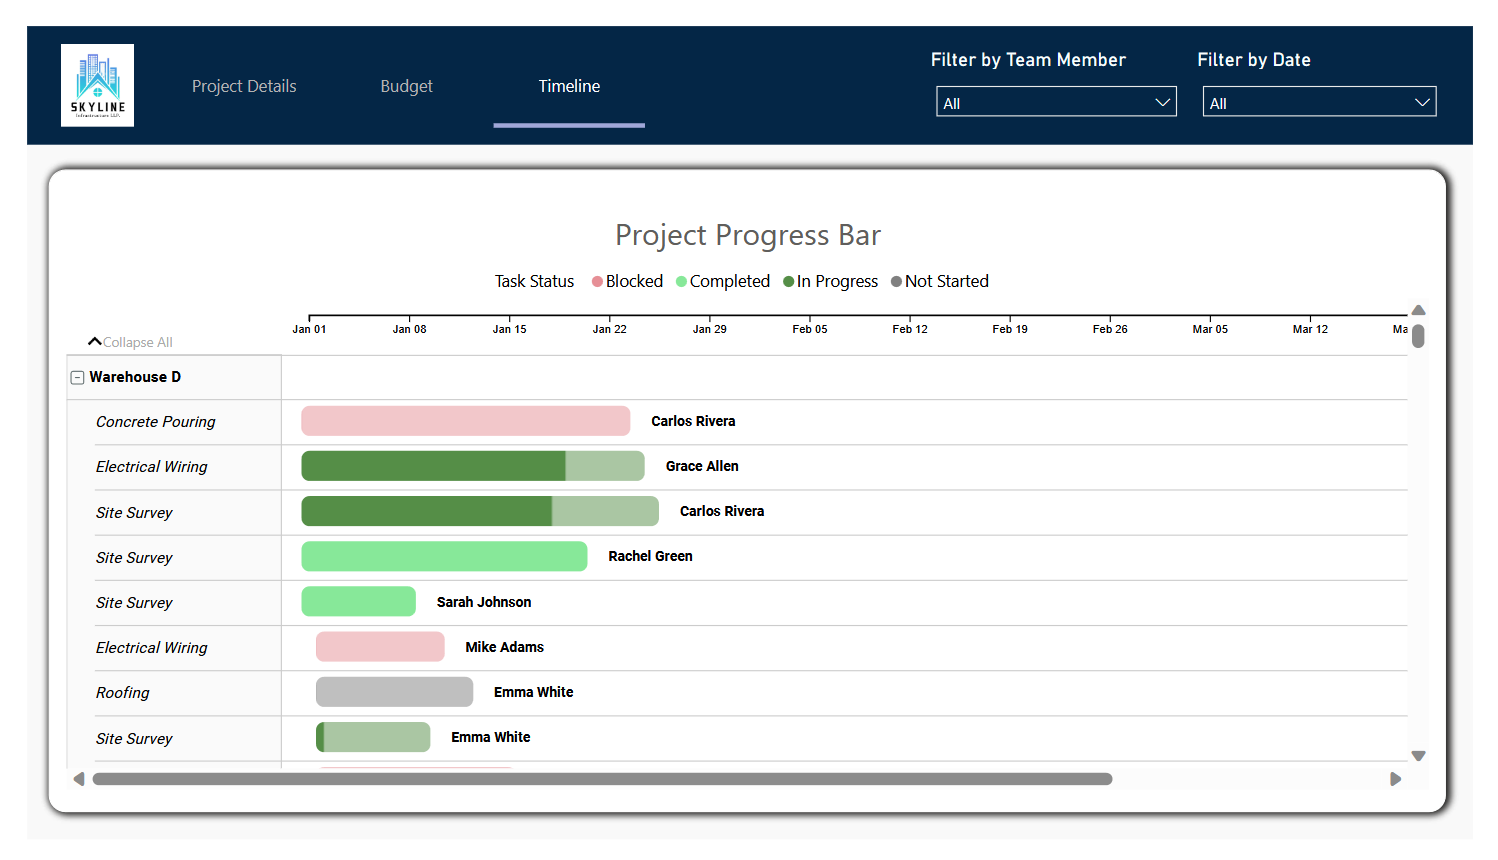

This screenshot's page, from the dashboard's own definition file:
{"tool":"powerbi","page":{"name":"Timeline","canvas":[1280,720],"ordinal":2},"visuals":[{"type":"textbox","box":[0,0,1280,105],"z":0},{"type":"slicer","title":"Filter by Team Member","fields":{"Values":["Dataset.Assigned To"]},"box":[795,18.7,232.5,71.2],"z":0,"group":"g1"},{"type":"image","box":[0,11.2,125,82.5],"z":1000,"group":"g1"},{"type":"textbox","box":[18.6,127.1,1237.1,568.6],"z":1000},{"type":"slicer","title":"Filter by Date","fields":{"Values":["Calendar.Year","Calendar.Month"]},"box":[1031.2,18.7,226.2,72.5],"z":2000,"group":"g1"},{"type":"Gantt1448688115699","title":"   ","fields":{"Task":["large_construction_project_mana.Task Name"],"Parent":["large_construction_project_mana.Project Name"],"StartDate":["large_construction_project_mana.Start Date"],"EndDate":["Min(large_construction_project_mana.Due Date)"],"Completion":["Sum(large_construction_project_mana.Progress %)"],"Resource":["large_construction_project_mana.Assigned To"],"Legend":["large_construction_project_mana.Task Status"],"ExtraInformation":["large_construction_project_mana.Priority","Dataset.Expected Days"]},"box":[30,127.5,1216.2,553.8],"z":2000},{"type":"group","id":"g1","title":"Navigation Group","box":[0,11.2,1257.5,82.5],"z":3000},{"type":"pageNavigator","box":[125,12.5,422.5,77.5],"z":4000}]}

Visuals, with their boxes in screenshot pixels (x1, y1, x2, y2):
textbox: Rect(0, 16, 1477, 137)
"Filter by Team Member" slicer: Rect(918, 37, 1186, 119)
image: Rect(0, 29, 144, 124)
textbox: Rect(21, 162, 1449, 819)
"Filter by Date" slicer: Rect(1190, 37, 1451, 121)
"   " Gantt1448688115699: Rect(35, 163, 1438, 802)
"Navigation Group" group: Rect(0, 29, 1451, 124)
pageNavigator: Rect(144, 30, 632, 119)
